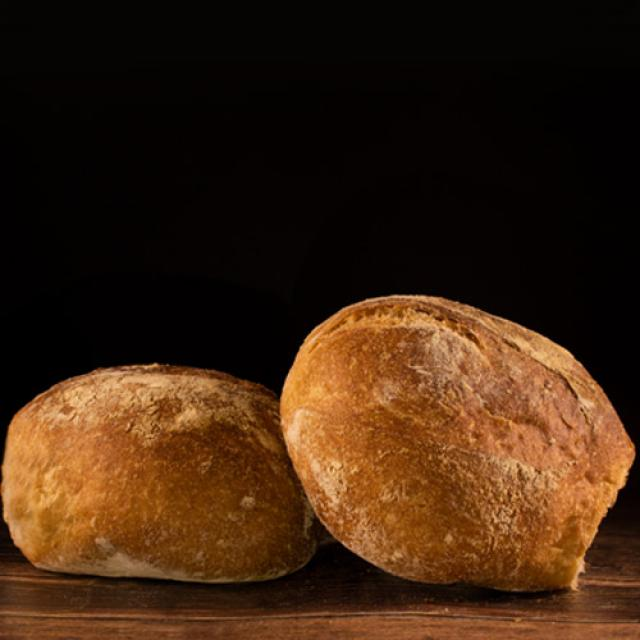Maltese-Bread: (282, 296, 634, 590), (3, 364, 317, 582)
